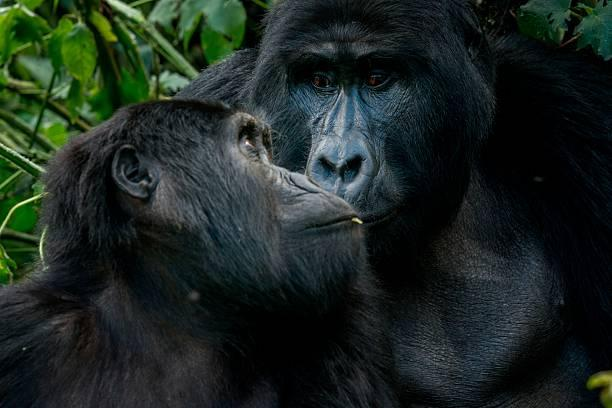goriile_montagne: (243, 0, 597, 361), (36, 102, 386, 408)
